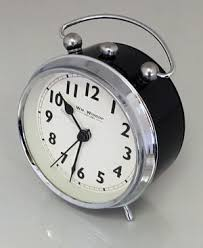alarm_clock: (13, 13, 184, 220), (13, 27, 184, 220)
